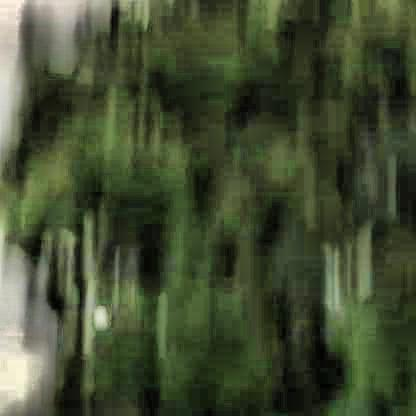golfball: (91, 299, 107, 323)
